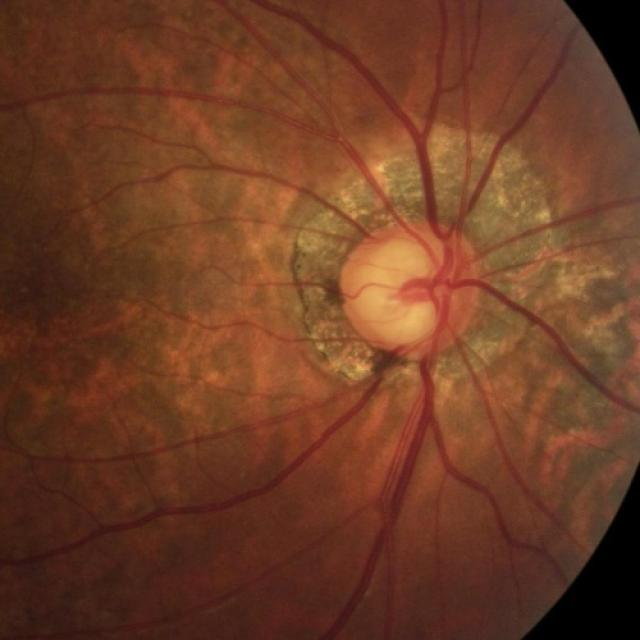OC: (353, 240, 442, 342)
OD: (343, 216, 483, 354)
